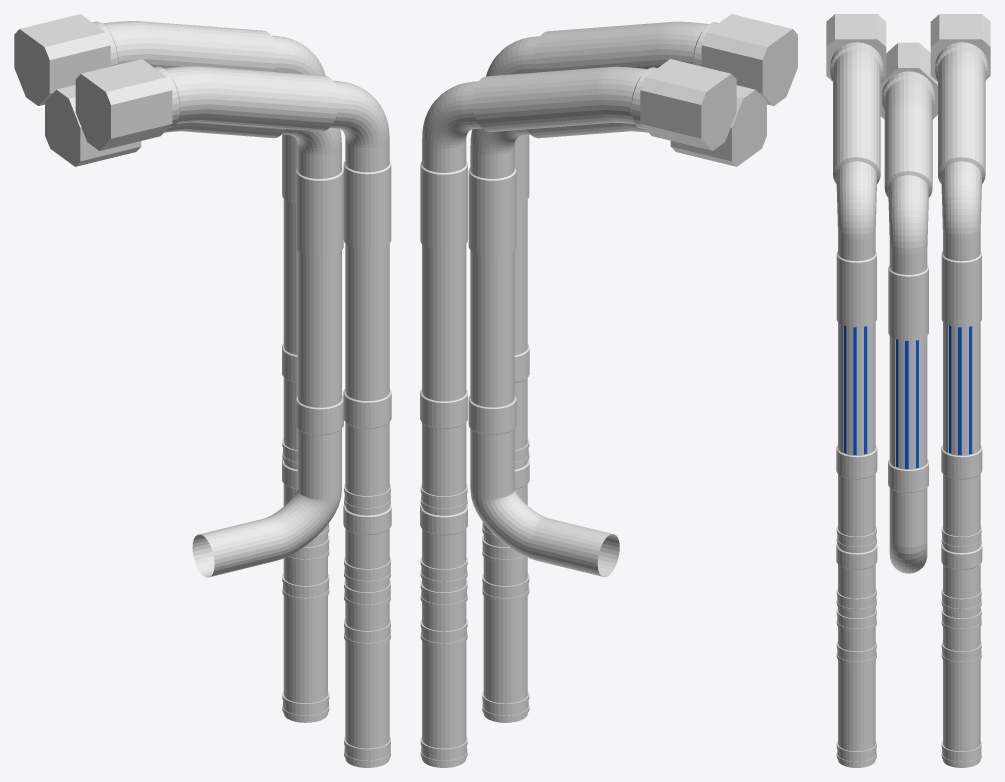
Rendered from m6OzonePipes2_1.fbx.
The picture shows the model from 3 angles, left to right: view 1: azimuth 30°, elevation 25°; view 2: azimuth 150°, elevation 25°; view 3: azimuth 270°, elevation 25°; orthographic projection. The views are drawn at different scales.
Parts seen in each view (by area): view 1: Cylinder.047; view 2: Cylinder.047; view 3: Cylinder.047.
Boxes of the visible parts, x1,y1,x2,y2 form: Cylinder.047: (14, 14, 391, 767); Cylinder.047: (420, 14, 797, 767); Cylinder.047: (826, 14, 990, 767).
Size of the model in its own units: 228 by 547 by 129.
